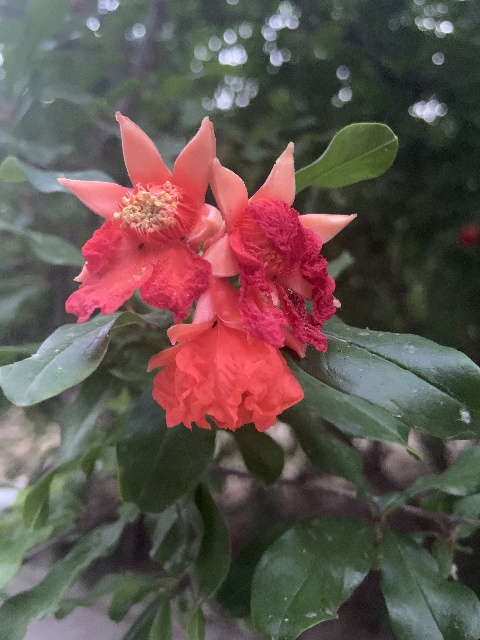flower: (57, 110, 222, 323), (202, 140, 357, 352), (146, 277, 303, 433)
